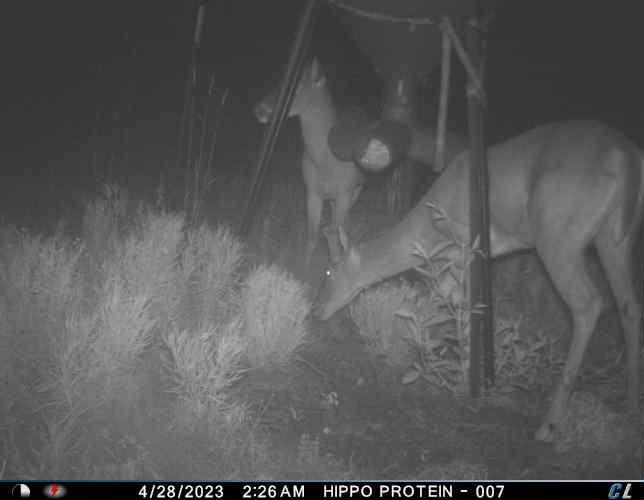Deer: (305, 111, 644, 438), (250, 53, 364, 259)
